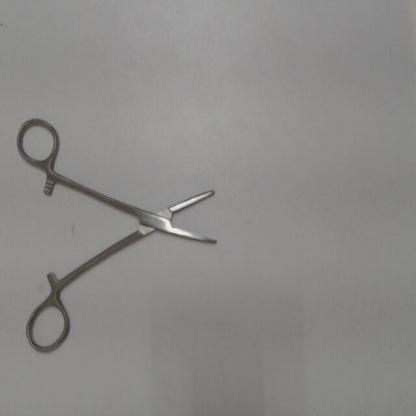Mayo Needle Holder: (8, 105, 238, 361)
